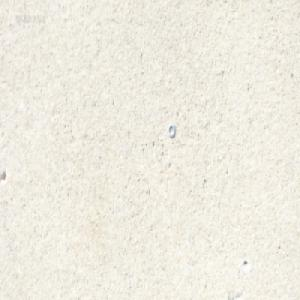Washer: (167, 122, 175, 137)
